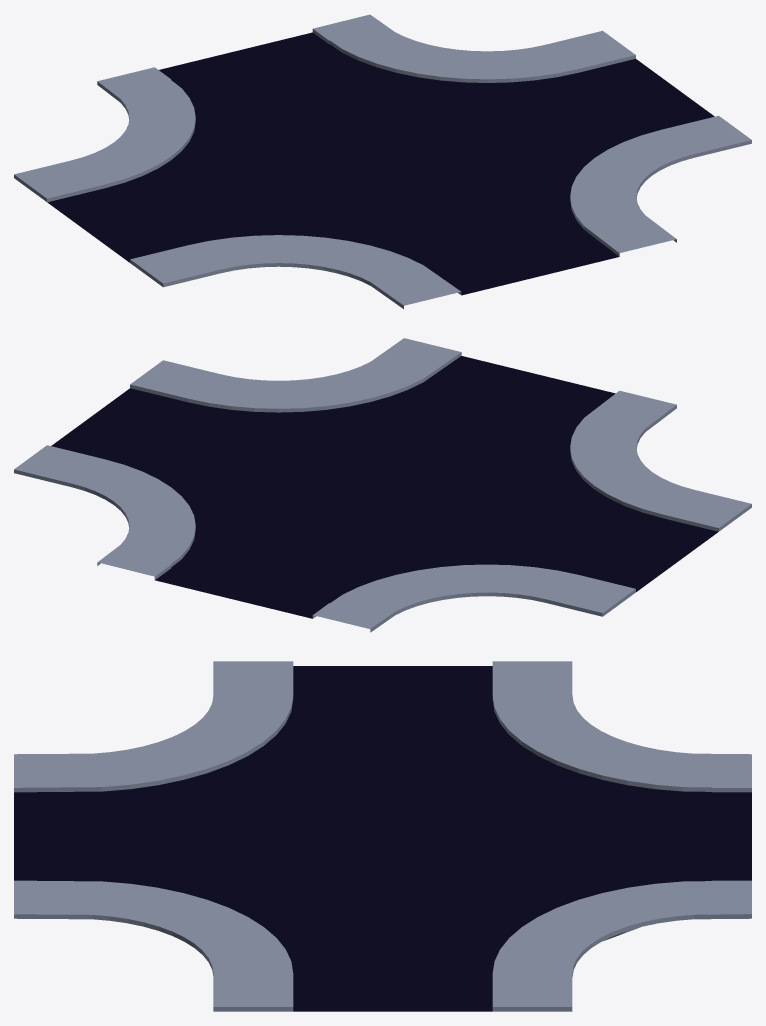
File: Intersection.fbx
3 renders of one model, top to bottom at view 1: azimuth 30°, elevation 25°; view 2: azimuth 150°, elevation 25°; view 3: azimuth 270°, elevation 25°, orthographic. The views are drawn at different scales.
Visible parts, largest first — view 1: X .001, X; view 2: X .001, X; view 3: X .001, X.
Part boxes in pixels (<box>): X .001: <box>47,32,714,295</box>; X: <box>14,14,751,308</box>; X .001: <box>51,356,718,618</box>; X: <box>14,338,751,632</box>; X .001: <box>14,666,751,1011</box>; X: <box>14,661,751,1011</box>.
Bounding box in the file's own units: 4100 × 38.63 × 3700.
